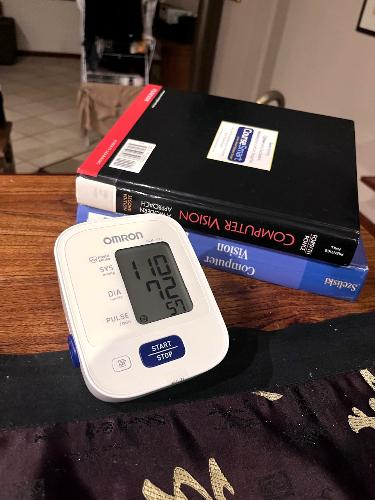bpm: (111, 230, 198, 332)
